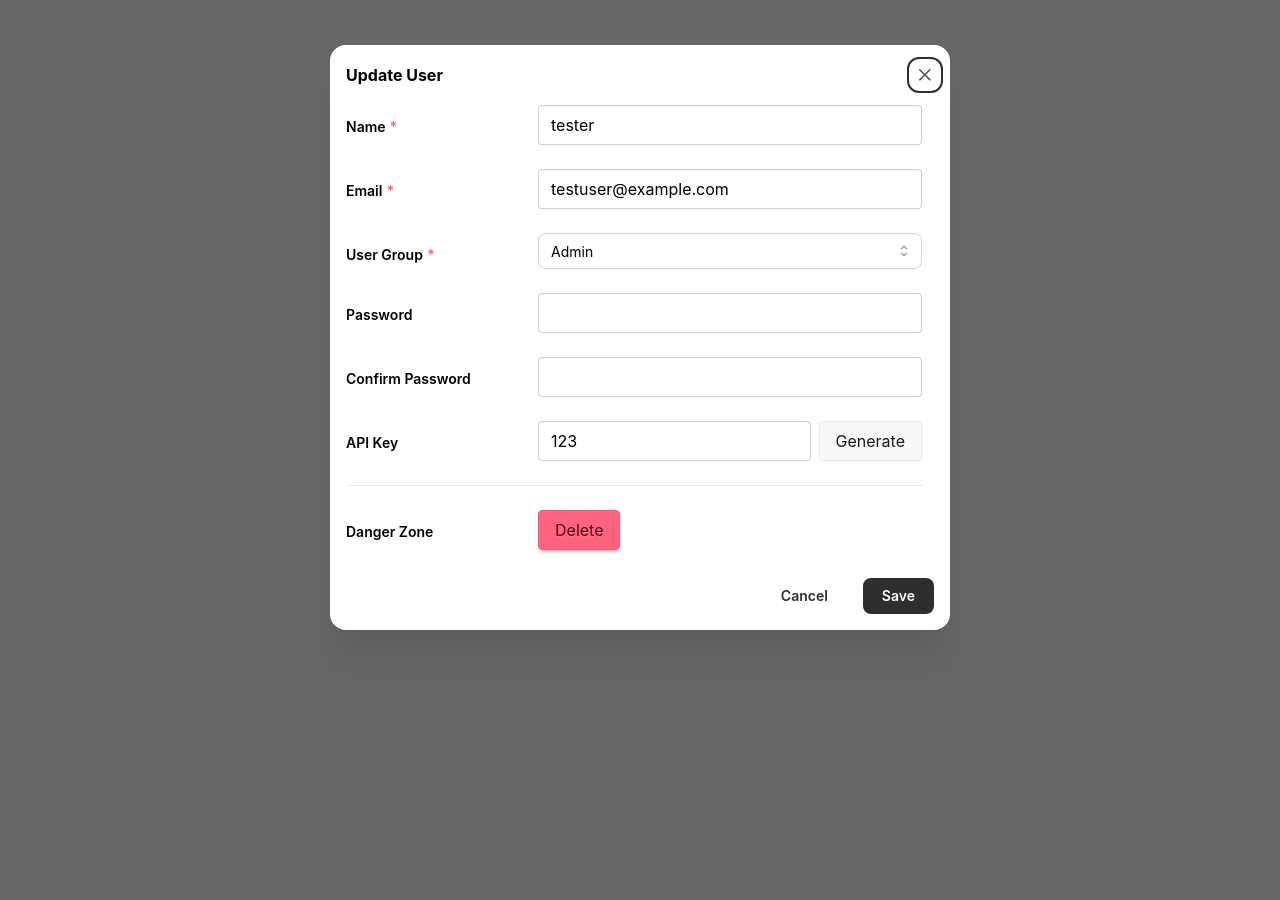
Test: UpdateUserDialog › should enable api key field just for user group admin
The image size is (1280, 900).
Step 1. Click the field labelled "User Group*" → (730, 251), box [538, 233, 922, 269]
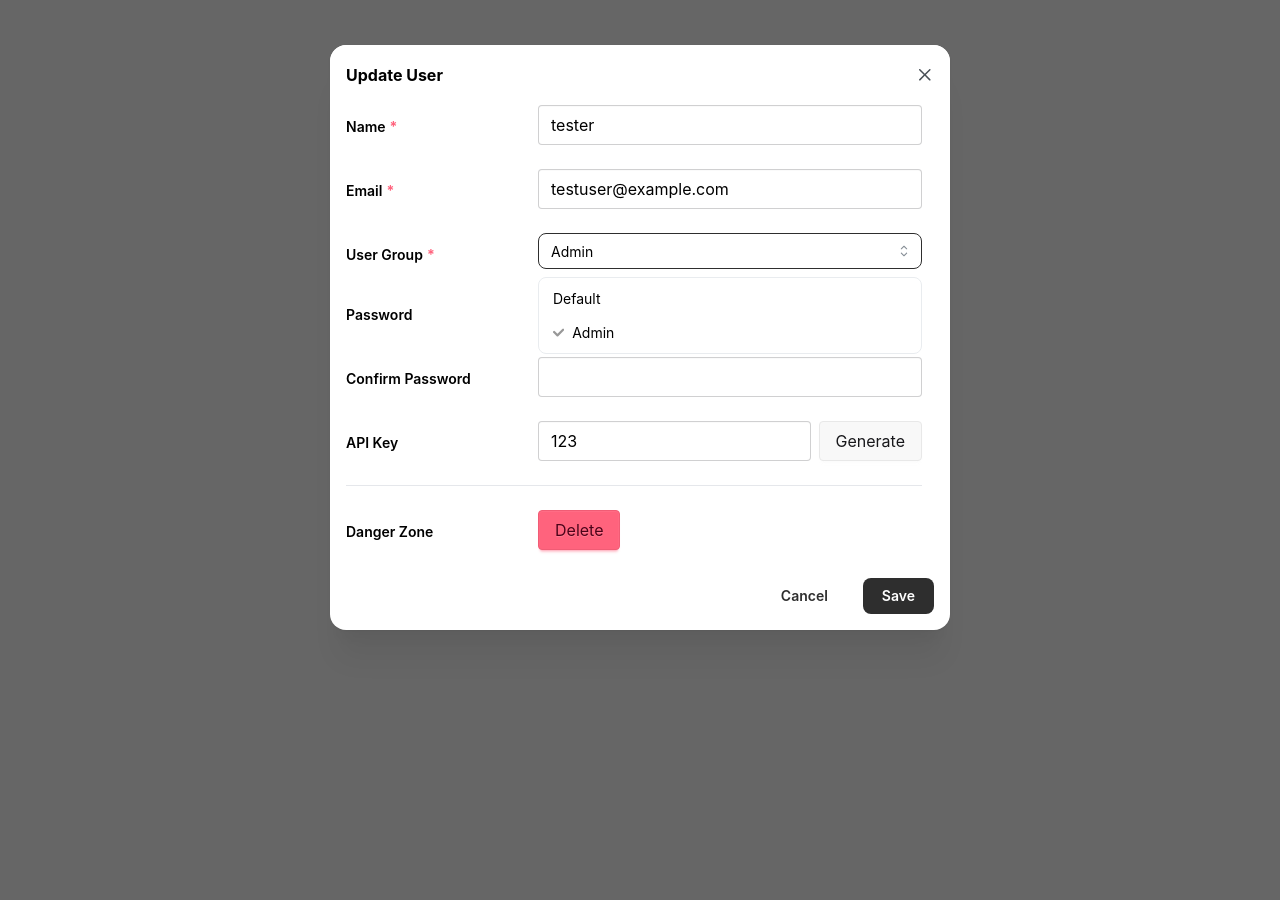
Step 2. Click the option "Default" → (577, 298), box [553, 290, 600, 307]
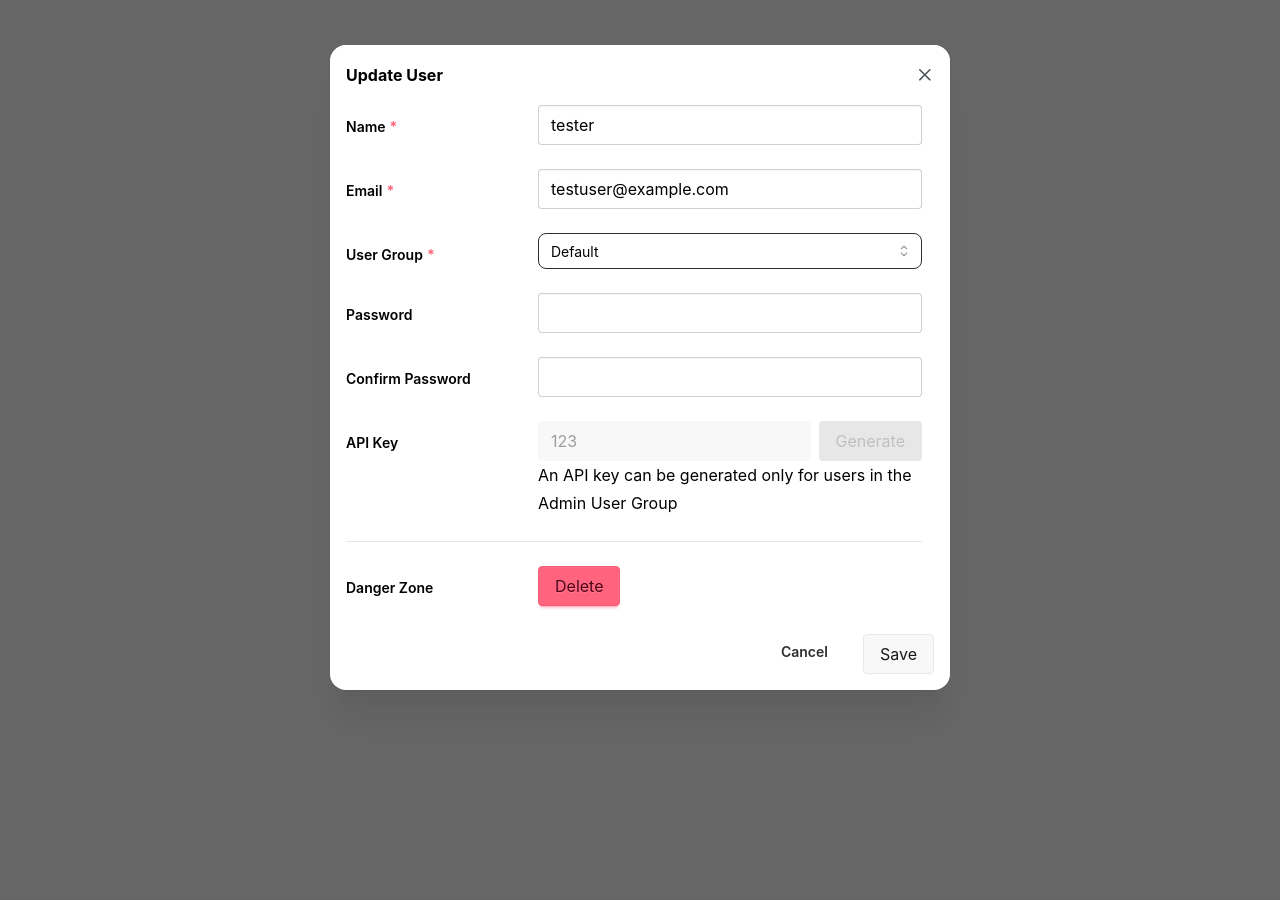
Expected: the field labelled "API Key" is disabled, [538, 421, 810, 461]
Step 3. Click the field labelled "User Group*" → (730, 251), box [538, 233, 922, 269]
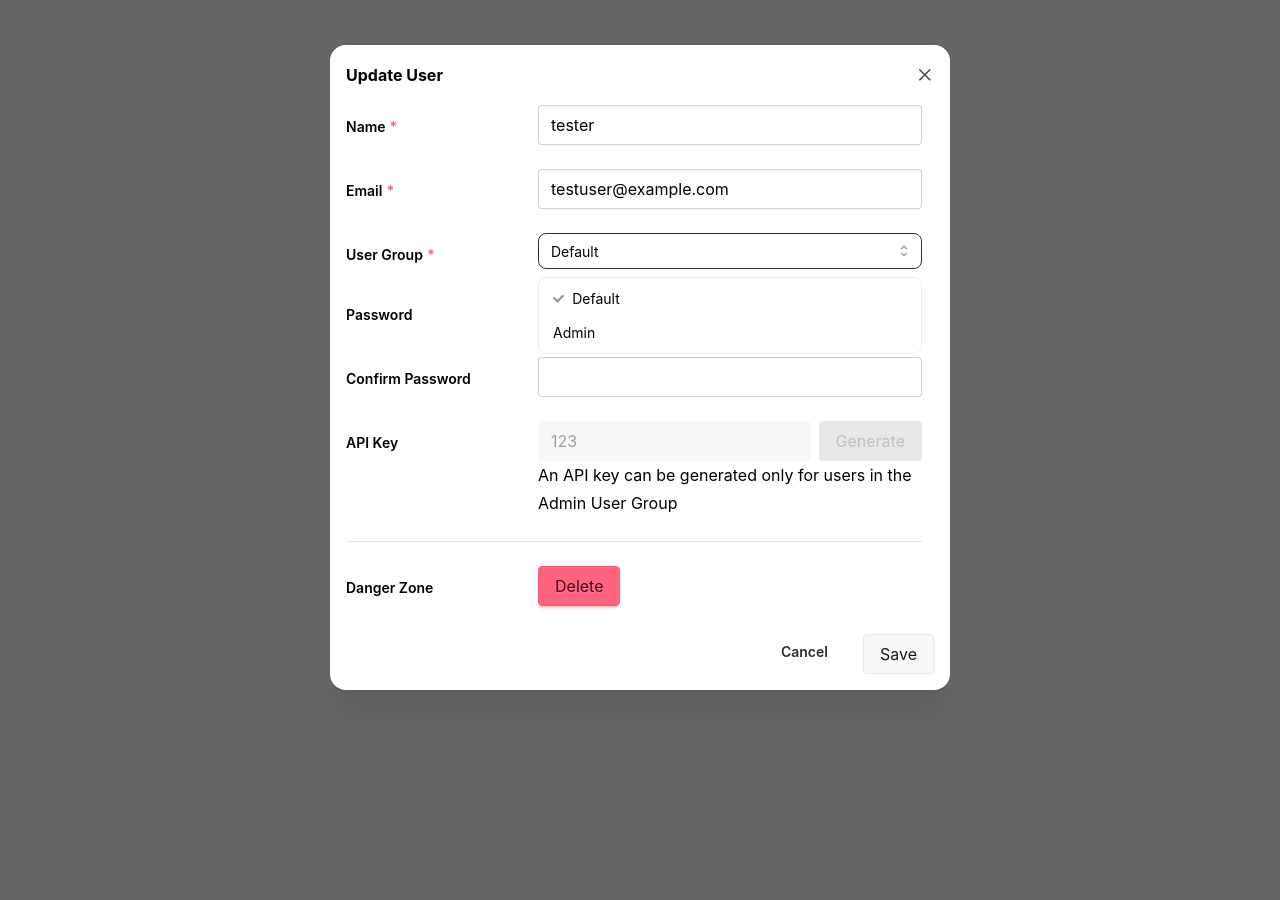
Step 4. Click the option "Admin" → (574, 332), box [553, 324, 595, 341]
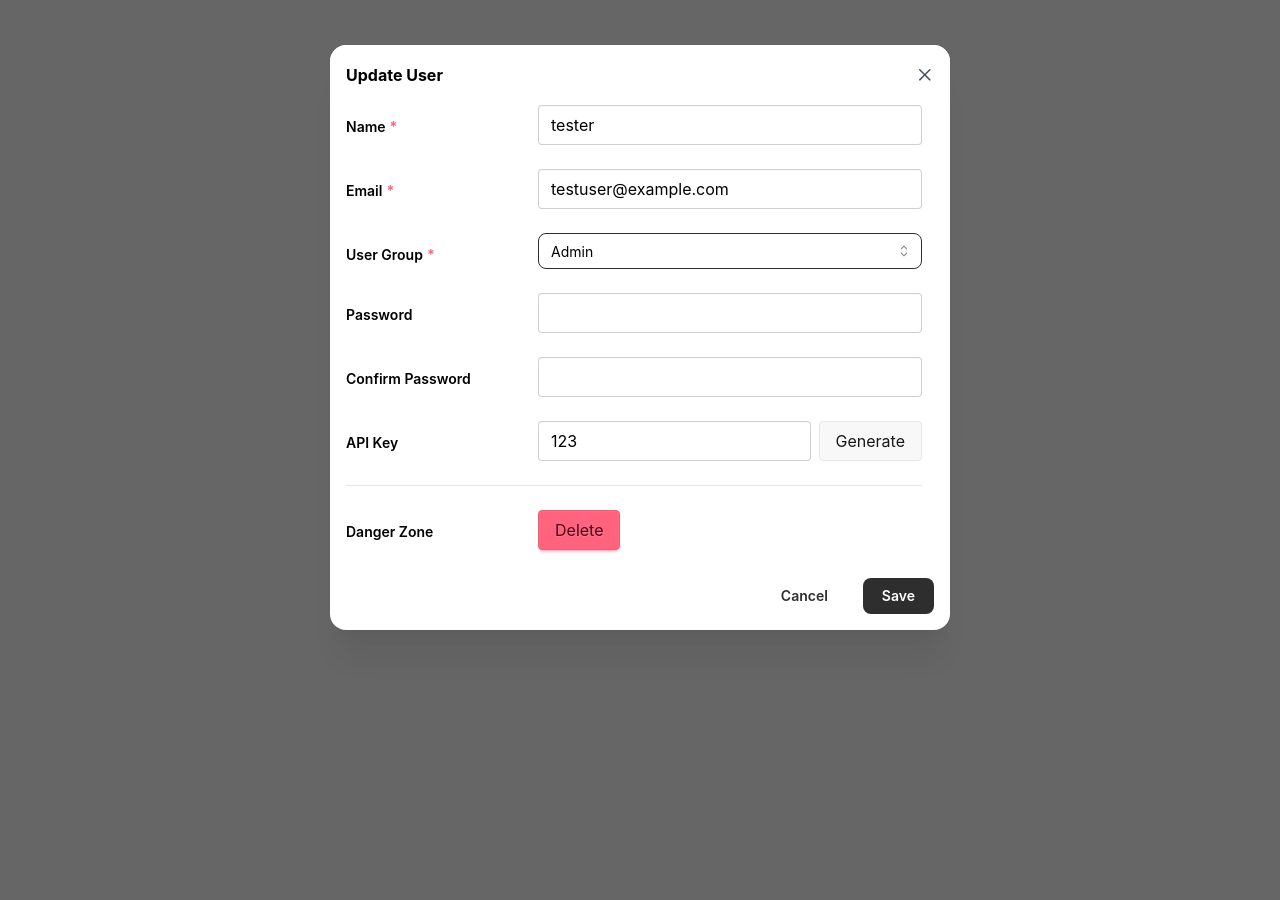
Expected: the field labelled "API Key" is enabled, [538, 421, 810, 461]
